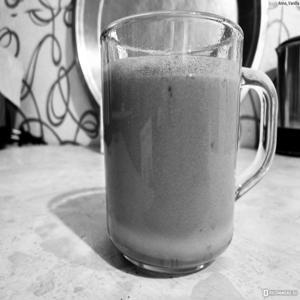coffee: (75, 5, 280, 278)
